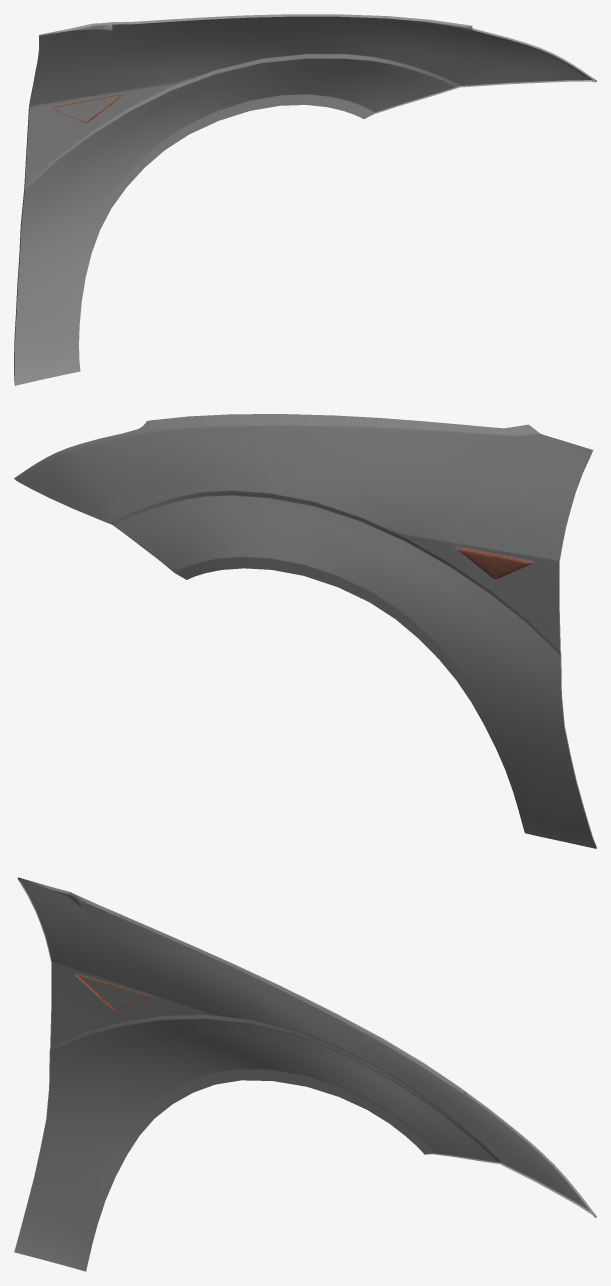
The picture shows the model from 3 angles, top to bottom: view 1: azimuth 30°, elevation 25°; view 2: azimuth 150°, elevation 25°; view 3: azimuth 330°, elevation 25°; orthographic projection. The views are drawn at different scales.
Visible parts, largest first — view 1: P157_121B_L_P157_121B_L_3_DaS, P157_121B_L_P157_121B_L_3_DaS_E; view 2: P157_121B_L_P157_121B_L_3_DaS, P157_121B_L_P157_121B_L_2_DTaSI, P157_121B_L_1_N_P157_121B_L; view 3: P157_121B_L_P157_121B_L_3_DaS, P157_121B_L_P157_121B_L_3_DaS_E.
Boxes of the visible parts, x1=… form: P157_121B_L_P157_121B_L_3_DaS: x1=14, y1=16, x2=592, y2=385; P157_121B_L_P157_121B_L_3_DaS_E: x1=14, y1=14, x2=596, y2=385; P157_121B_L_P157_121B_L_3_DaS: x1=14, y1=414, x2=596, y2=848; P157_121B_L_P157_121B_L_2_DTaSI: x1=455, y1=546, x2=534, y2=580; P157_121B_L_1_N_P157_121B_L: x1=458, y1=547, x2=532, y2=579; P157_121B_L_P157_121B_L_3_DaS: x1=15, y1=879, x2=589, y2=1271; P157_121B_L_P157_121B_L_3_DaS_E: x1=14, y1=877, x2=596, y2=1271.
Bounding box in the file's own units: 136 × 83.29 × 17.5.
